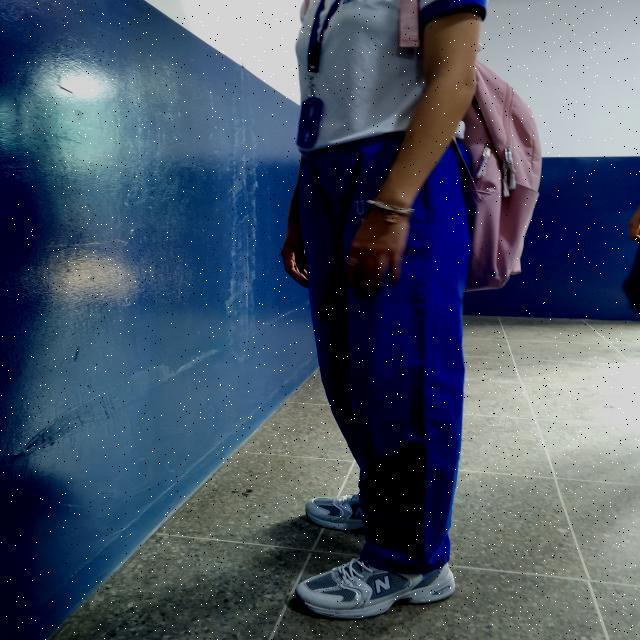carnet: (296, 98, 324, 148)
uniforme_superior: (300, 126, 469, 576)
